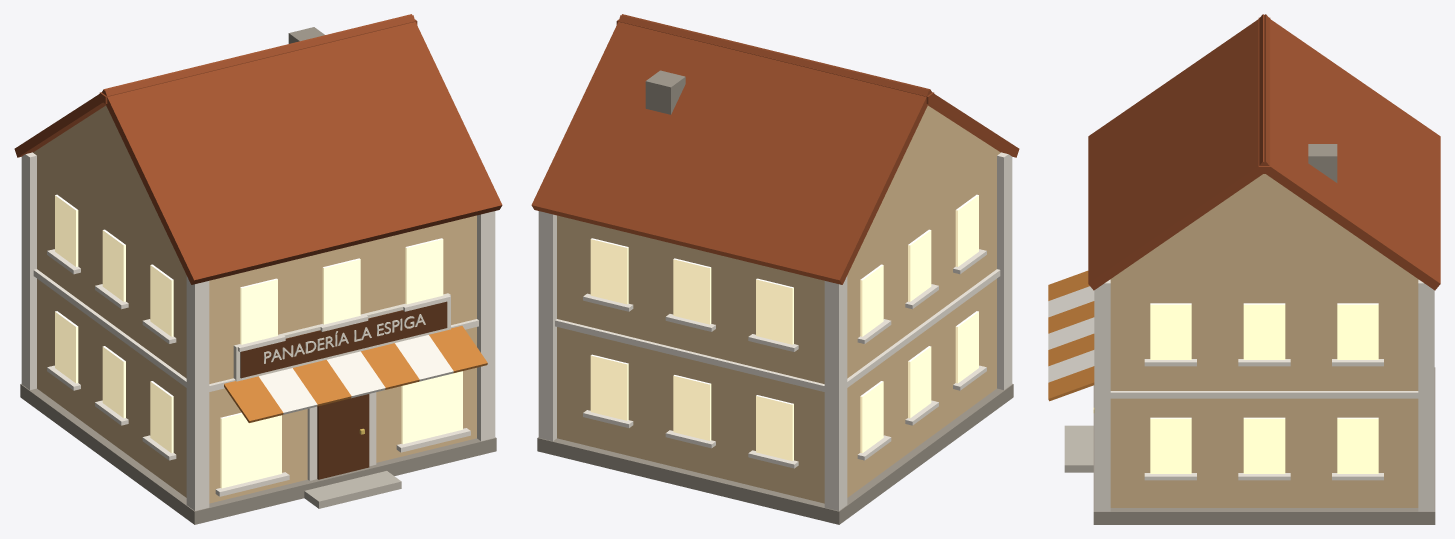
File: panaderia-espiga.glb
The picture shows the model from 3 angles, left to right: view 1: azimuth 30°, elevation 25°; view 2: azimuth 150°, elevation 25°; view 3: azimuth 270°, elevation 25°; orthographic projection.
Parts seen in each view (by area): view 1: panaderia-espiga_10, panaderia-espiga_1, panaderia-espiga_3, panaderia-espiga_2, panaderia-espiga_4, panaderia-espiga_0, panaderia-espiga_7, panaderia-espiga_8, panaderia-espiga_6, panaderia-espiga_9, panaderia-espiga_letrero; view 2: panaderia-espiga_1, panaderia-espiga_10, panaderia-espiga_3, panaderia-espiga_2, panaderia-espiga_0; view 3: panaderia-espiga_1, panaderia-espiga_10, panaderia-espiga_3, panaderia-espiga_2, panaderia-espiga_0, panaderia-espiga_7, panaderia-espiga_8, panaderia-espiga_6.
Boxes of the visible parts, box(x1,y1,x2,y2) form: panaderia-espiga_10: box(14, 14, 502, 284); panaderia-espiga_1: box(33, 105, 476, 503); panaderia-espiga_3: box(55, 194, 462, 488); panaderia-espiga_2: box(21, 152, 495, 510); panaderia-espiga_4: box(240, 301, 447, 479); panaderia-espiga_0: box(20, 27, 496, 524); panaderia-espiga_7: box(224, 326, 487, 422); panaderia-espiga_8: box(259, 335, 453, 414); panaderia-espiga_6: box(304, 471, 401, 508); panaderia-espiga_9: box(233, 293, 450, 381); panaderia-espiga_letrero: box(264, 314, 425, 363); panaderia-espiga_1: box(557, 105, 1000, 503); panaderia-espiga_10: box(531, 14, 1019, 284); panaderia-espiga_3: box(590, 194, 978, 461); panaderia-espiga_2: box(538, 152, 1012, 510); panaderia-espiga_0: box(537, 70, 1013, 524); panaderia-espiga_1: box(1110, 174, 1418, 507); panaderia-espiga_10: box(1088, 14, 1440, 290); panaderia-espiga_3: box(1150, 303, 1378, 473); panaderia-espiga_2: box(1094, 279, 1434, 511); panaderia-espiga_0: box(1093, 144, 1435, 524); panaderia-espiga_7: box(1048, 270, 1094, 401); panaderia-espiga_8: box(1048, 286, 1094, 382); panaderia-espiga_6: box(1064, 425, 1093, 472).
Bounding box in the file's own units: 9.8 × 11.19 × 10.91.
